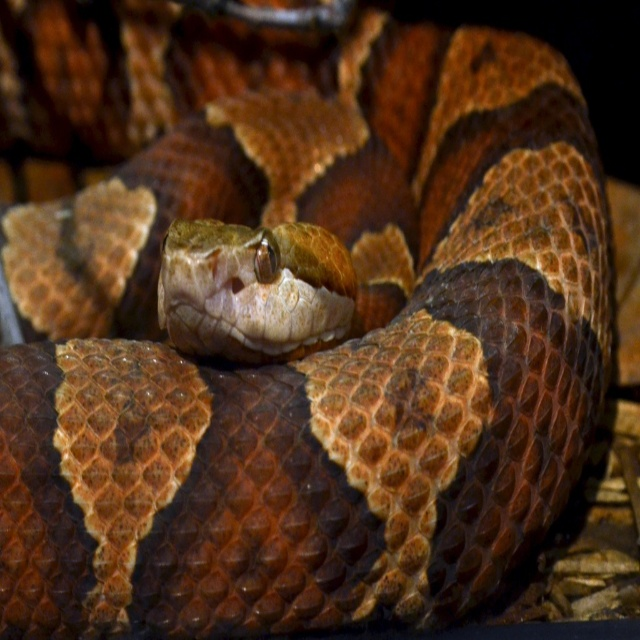Snake: (0, 0, 615, 640)
